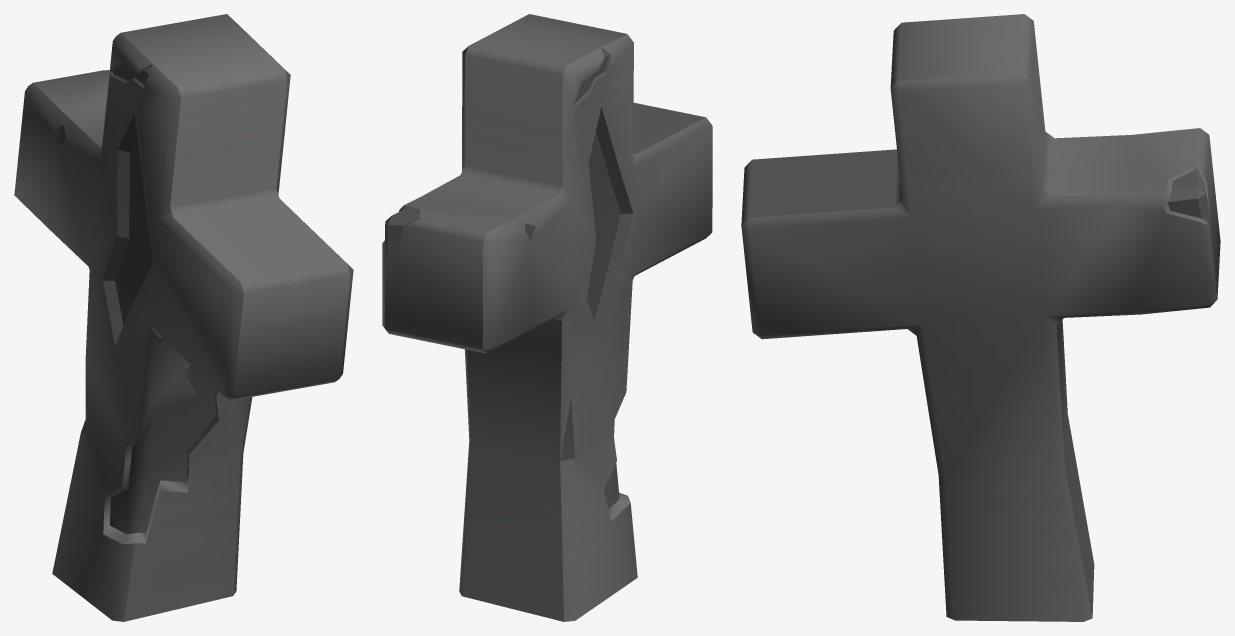
Rendered from Cross_1_3.obj.
The picture shows the model from 3 angles, left to right: view 1: azimuth 30°, elevation 25°; view 2: azimuth 150°, elevation 25°; view 3: azimuth 270°, elevation 25°; orthographic projection. The views are drawn at different scales.
Visible parts, largest first — view 1: Cross_1_3; view 2: Cross_1_3; view 3: Cross_1_3.
Boxes of the visible parts, bbox=[...] form: Cross_1_3: bbox=[14, 14, 353, 621]; Cross_1_3: bbox=[382, 14, 712, 621]; Cross_1_3: bbox=[741, 14, 1220, 621].
Size of the model in its own units: 0.2816 by 0.9739 by 0.7477.
